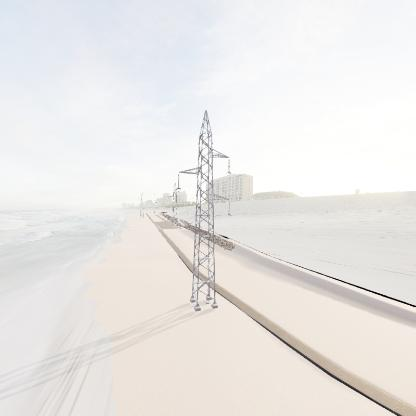tower: (174, 109, 234, 314)
